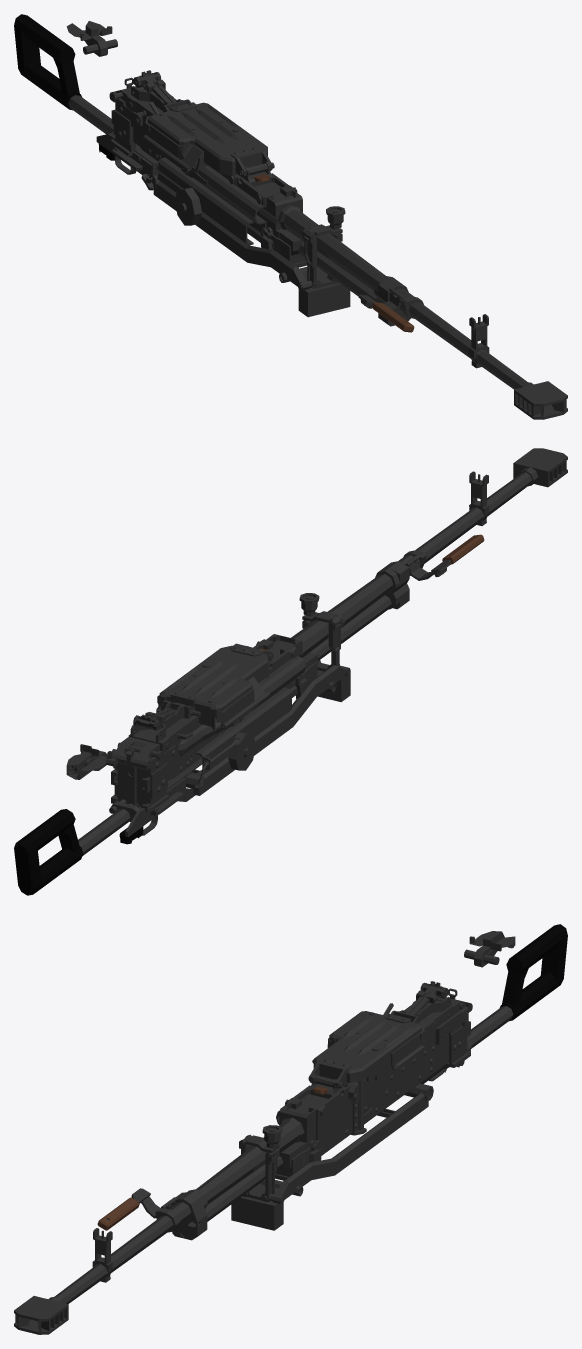
The model's file is kord.glb.
3 renders of one model, top to bottom at view 1: azimuth 30°, elevation 25°; view 2: azimuth 150°, elevation 25°; view 3: azimuth 330°, elevation 25°, orthographic.
Visible parts, largest first — view 1: weapon; view 2: weapon; view 3: weapon.
Boxes of the visible parts, <box> form: weapon: <box>14,14,567,419</box>; weapon: <box>14,448,567,895</box>; weapon: <box>14,924,567,1334</box>.
Size of the model in its own units: 0.1103 by 0.1696 by 1.45.
